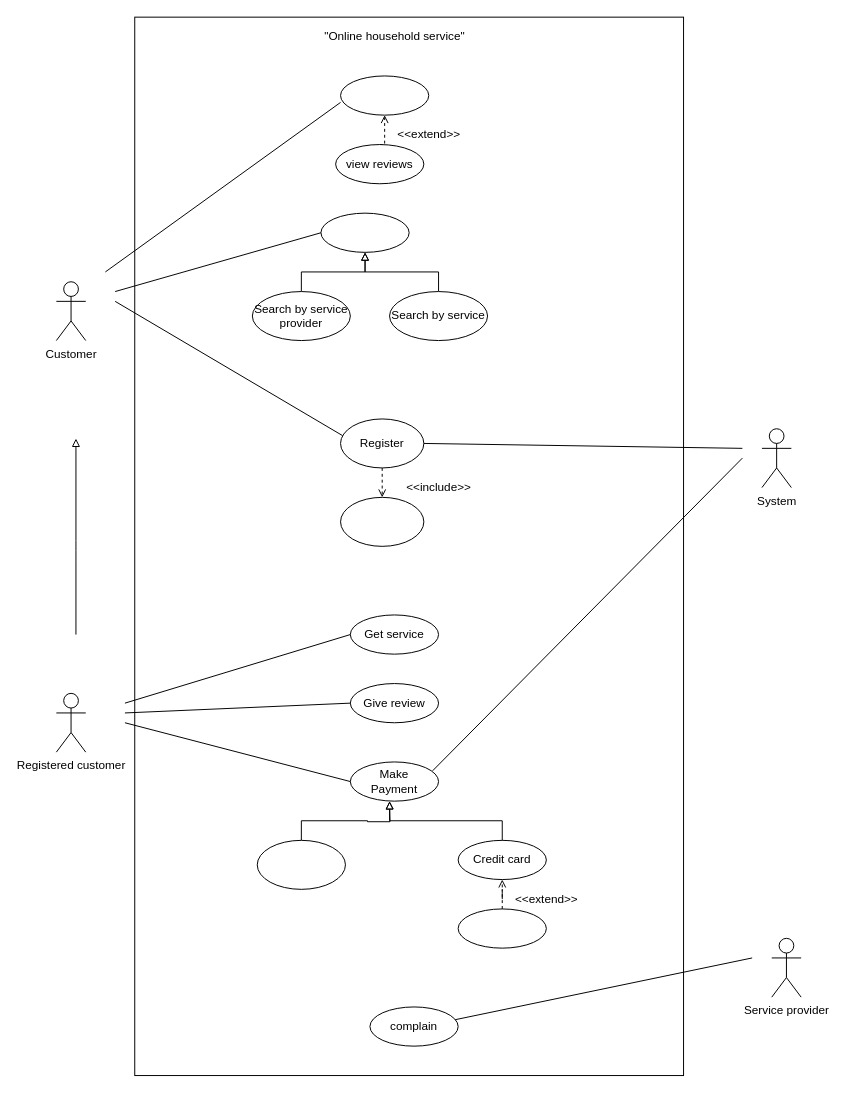
Some shapes in this 846 by 1093 pixel diagram are drawn without their labels. Each missing label, with the centre of its shape:
Cash: point (300, 864)
Search: point (364, 232)
Verify: point (501, 928)
Verify email/Phone no: point (382, 521)
view Services: point (384, 95)
